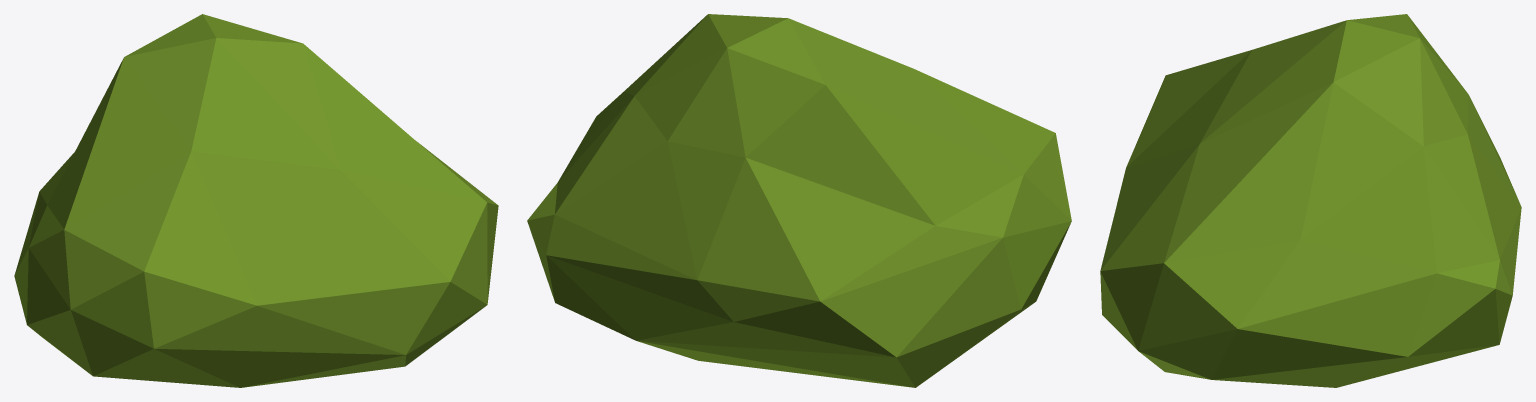
Rendered from Bush1.fbx.
The picture shows the model from 3 angles, left to right: view 1: azimuth 30°, elevation 25°; view 2: azimuth 150°, elevation 25°; view 3: azimuth 270°, elevation 25°; orthographic projection. The views are drawn at different scales.
Parts seen in each view (by area): view 1: Icosphere.006; view 2: Icosphere.006; view 3: Icosphere.006.
Part boxes in pixels (<box>): Icosphere.006: <box>14,14,498,387</box>; Icosphere.006: <box>527,14,1071,387</box>; Icosphere.006: <box>1100,14,1521,387</box>.
Bounding box in the file's own units: 229 × 150 × 185.
